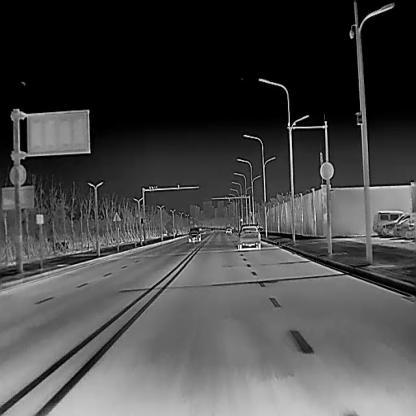car: (372, 208, 405, 233), (383, 214, 416, 237), (236, 223, 261, 248), (187, 225, 200, 241), (225, 226, 231, 234)
